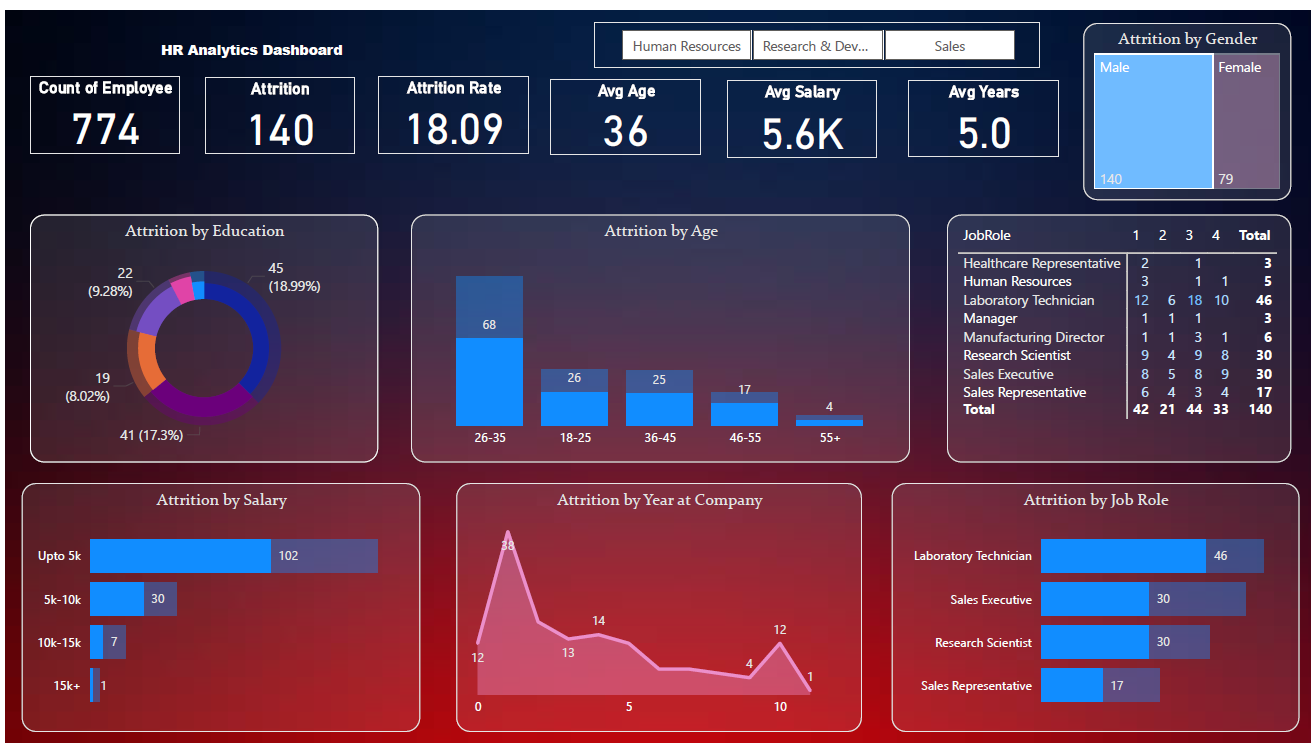

The dashboard page shown, as its layout file describes it:
{"tool":"powerbi","page":{"name":"Page 1","canvas":[1280,720],"ordinal":0},"visuals":[{"type":"card","title":"Count of Employee","fields":{"Values":["CountNonNull(HR_Analytics.EmpID)"]},"box":[24,64,146.7,76],"z":0},{"type":"card","title":"Attrition  Rate","fields":{"Values":["HR_Analytics.Attrition Rate"]},"box":[364,64,146.7,76],"z":1000},{"type":"card","title":"Attrition","fields":{"Values":["HR_Analytics.Attrition Count"]},"box":[194.7,65.3,146.7,74.7],"z":2000},{"type":"card","title":"Avg Age","fields":{"Values":["Avg(HR_Analytics.Age)"]},"box":[532,66.7,146.7,74.7],"z":3000},{"type":"card","title":"Avg Salary","fields":{"Values":["Avg(HR_Analytics.MonthlyIncome)"]},"box":[704,68,146.7,76],"z":4000},{"type":"card","title":"Avg Years","fields":{"Values":["Avg(HR_Analytics.YearsAtCompany)"]},"box":[881.3,68,146.7,74.7],"z":5000},{"type":"donutChart","title":"Attrition by Education","fields":{"Category":["HR_Analytics.EducationField"],"Y":["HR_Analytics.Attrition Count"]},"box":[24,198.7,340,242.7],"z":6000},{"type":"columnChart","title":"Attrition by Age","fields":{"Category":["HR_Analytics.AgeGroup"],"Y":["HR_Analytics.Attrition Count"]},"box":[396,198.7,486.7,242.7],"z":7000},{"type":"pivotTable","fields":{"Rows":["HR_Analytics.JobRole"],"Columns":["HR_Analytics.JobSatisfaction"],"Values":["HR_Analytics.Attrition Count"]},"box":[918.7,198.7,336,242.7],"z":8000},{"type":"barChart","title":"Attrition by Salary","fields":{"Category":["HR_Analytics.SalarySlab"],"Y":["HR_Analytics.Attrition Count"]},"box":[16,461.3,389.3,242.7],"z":9000},{"type":"barChart","title":"Attrition by Job Role","fields":{"Category":["HR_Analytics.JobRole"],"Y":["HR_Analytics.Attrition Count"]},"box":[865.3,461.3,397.3,242.7],"z":10000},{"type":"areaChart","title":"Attrition by Year at Company","fields":{"Category":["HR_Analytics.YearsAtCompany"],"Y":["HR_Analytics.Attrition Count"]},"box":[440,461.3,396,242.7],"z":11000},{"type":"treemap","title":"Attrition by Gender","fields":{"Group":["HR_Analytics.Gender"],"Values":["HR_Analytics.Attrition Count"]},"box":[1052,12,202.7,173.3],"z":12000},{"type":"slicer","fields":{"Values":["HR_Analytics.Department"]},"box":[574.8,11.4,435.5,44.3],"z":13000},{"type":"textbox","box":[76,22.7,329.3,41.3],"z":14000}]}

Visuals, with their boxes in screenshot pixels (x1, y1, x2, y2), scaled from the page's 1280x720 canvas onto the 1311x743 screenshot:
"Count of Employee" card: <bbox>25, 66, 175, 144</bbox>
"Attrition  Rate" card: <bbox>373, 66, 523, 144</bbox>
"Attrition" card: <bbox>199, 67, 350, 144</bbox>
"Avg Age" card: <bbox>545, 69, 695, 146</bbox>
"Avg Salary" card: <bbox>721, 70, 871, 149</bbox>
"Avg Years" card: <bbox>903, 70, 1053, 147</bbox>
"Attrition by Education" donutChart: <bbox>25, 205, 373, 456</bbox>
"Attrition by Age" columnChart: <bbox>406, 205, 904, 456</bbox>
pivotTable - HR_Analytics.JobRole x HR_Analytics.JobSatisfaction: <bbox>941, 205, 1285, 456</bbox>
"Attrition by Salary" barChart: <bbox>16, 476, 415, 726</bbox>
"Attrition by Job Role" barChart: <bbox>886, 476, 1293, 726</bbox>
"Attrition by Year at Company" areaChart: <bbox>451, 476, 856, 726</bbox>
"Attrition by Gender" treemap: <bbox>1077, 12, 1285, 191</bbox>
slicer - HR_Analytics.Department: <bbox>589, 12, 1035, 57</bbox>
textbox: <bbox>78, 23, 415, 66</bbox>
